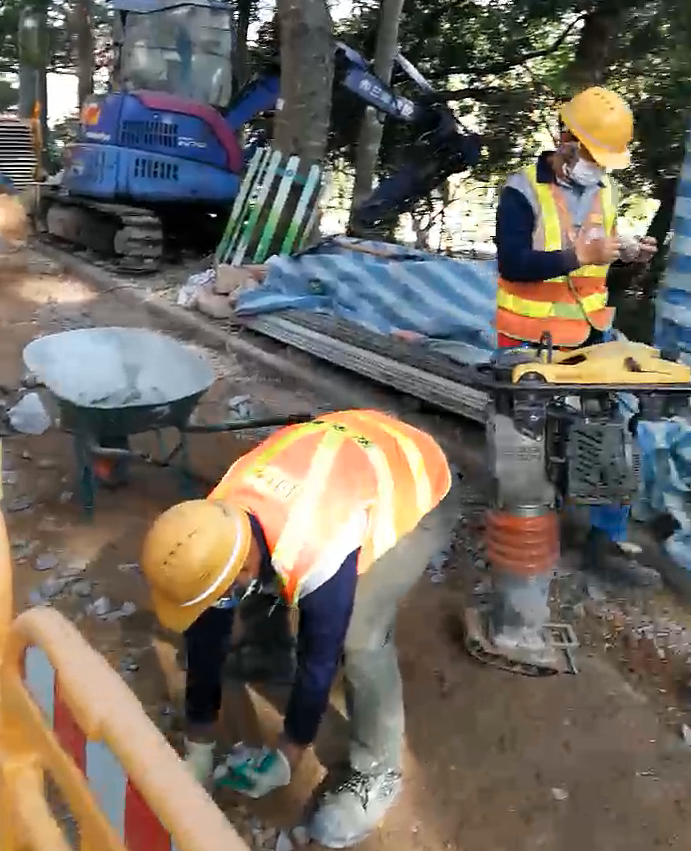Hard Hat: (145, 496, 266, 634), (555, 86, 638, 172)
Person: (143, 411, 464, 848), (491, 81, 658, 594)
Vest: (212, 412, 456, 605), (496, 138, 618, 348)
